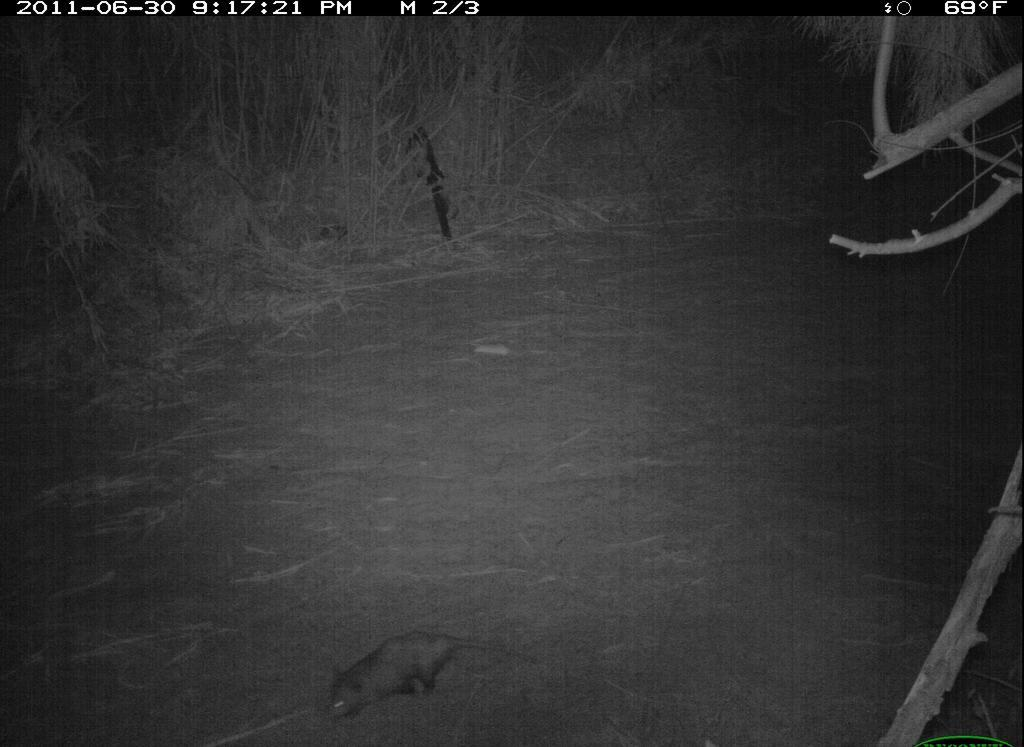opossum: (315, 626, 537, 728)
